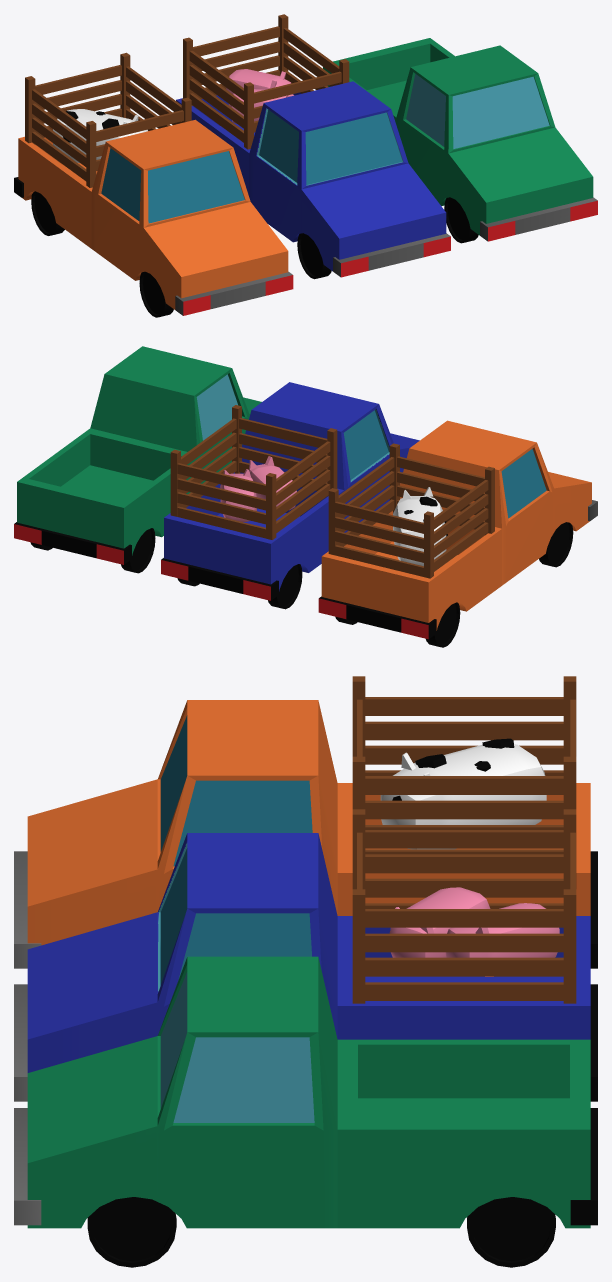
The model's file is FBX_Camionetas.fbx.
3 renders of one model, top to bottom at view 1: azimuth 30°, elevation 25°; view 2: azimuth 150°, elevation 25°; view 3: azimuth 270°, elevation 25°, orthographic. The views are drawn at different scales.
Parts seen in each view (by area): view 1: MSH_Camioneta3, MSH_Camioneta1, MSH_Camioneta2; view 2: MSH_Camioneta3, MSH_Camioneta1, MSH_Camioneta2; view 3: MSH_Camioneta2, MSH_Camioneta1, MSH_Camioneta3.
Boxes of the visible parts, <box> form: MSH_Camioneta3: <box>14,52,293,317</box>; MSH_Camioneta1: <box>176,14,450,279</box>; MSH_Camioneta2: <box>323,38,597,243</box>; MSH_Camioneta3: <box>318,420,597,647</box>; MSH_Camioneta1: <box>161,382,419,609</box>; MSH_Camioneta2: <box>14,346,261,573</box>; MSH_Camioneta2: <box>14,956,597,1267</box>; MSH_Camioneta1: <box>14,809,597,1101</box>; MSH_Camioneta3: <box>14,676,597,968</box>.
Size of the model in its own units: 5.45 by 1.81 by 3.85.
